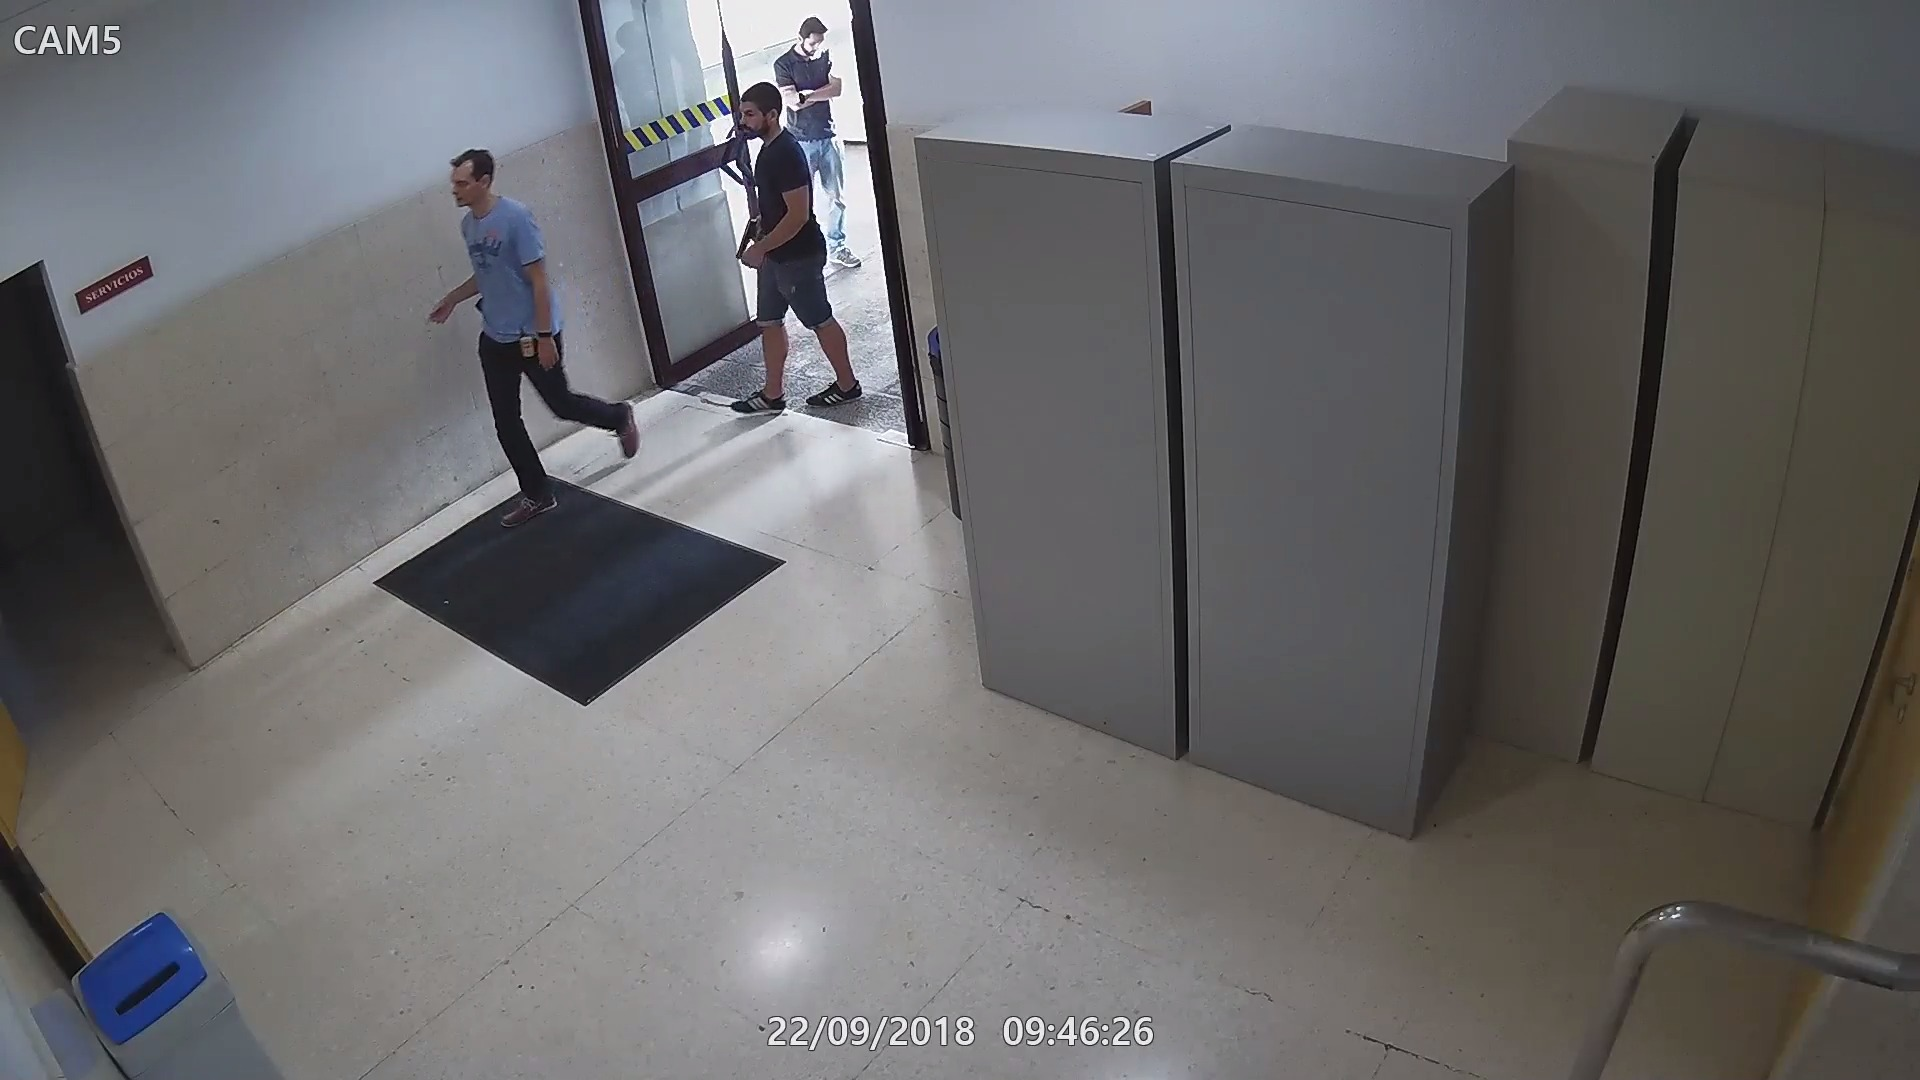Handgun: (733, 215, 764, 265)
